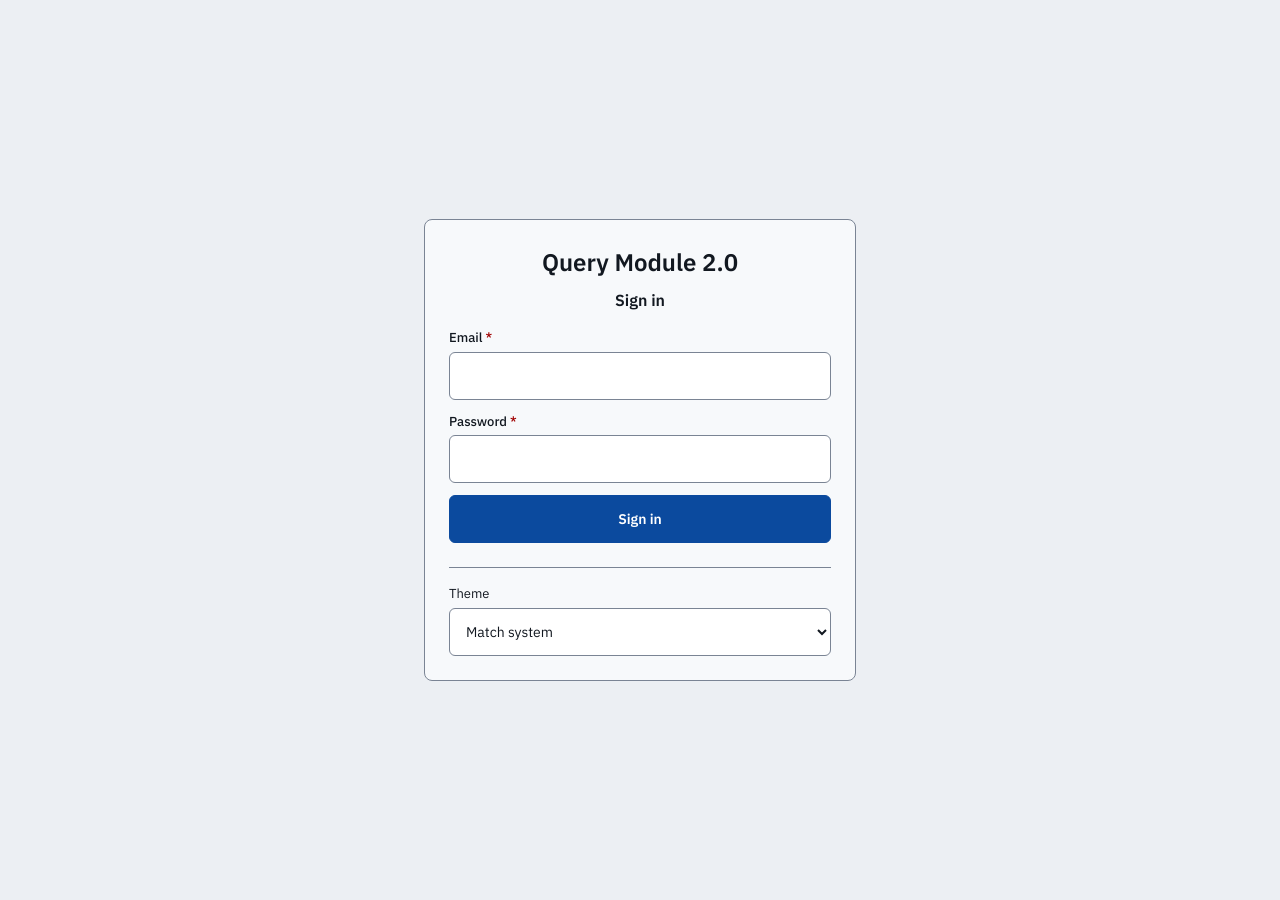
Test: NFR-003 authenticated heartbeat on the status page (spec 5.3, 6.8, 9.3) › reports a closed connection
This screenshot has width=1280, height=900.
Type "tester@querymodule.test" into the field labelled "Email *" at (640, 376), box [449, 352, 831, 400]
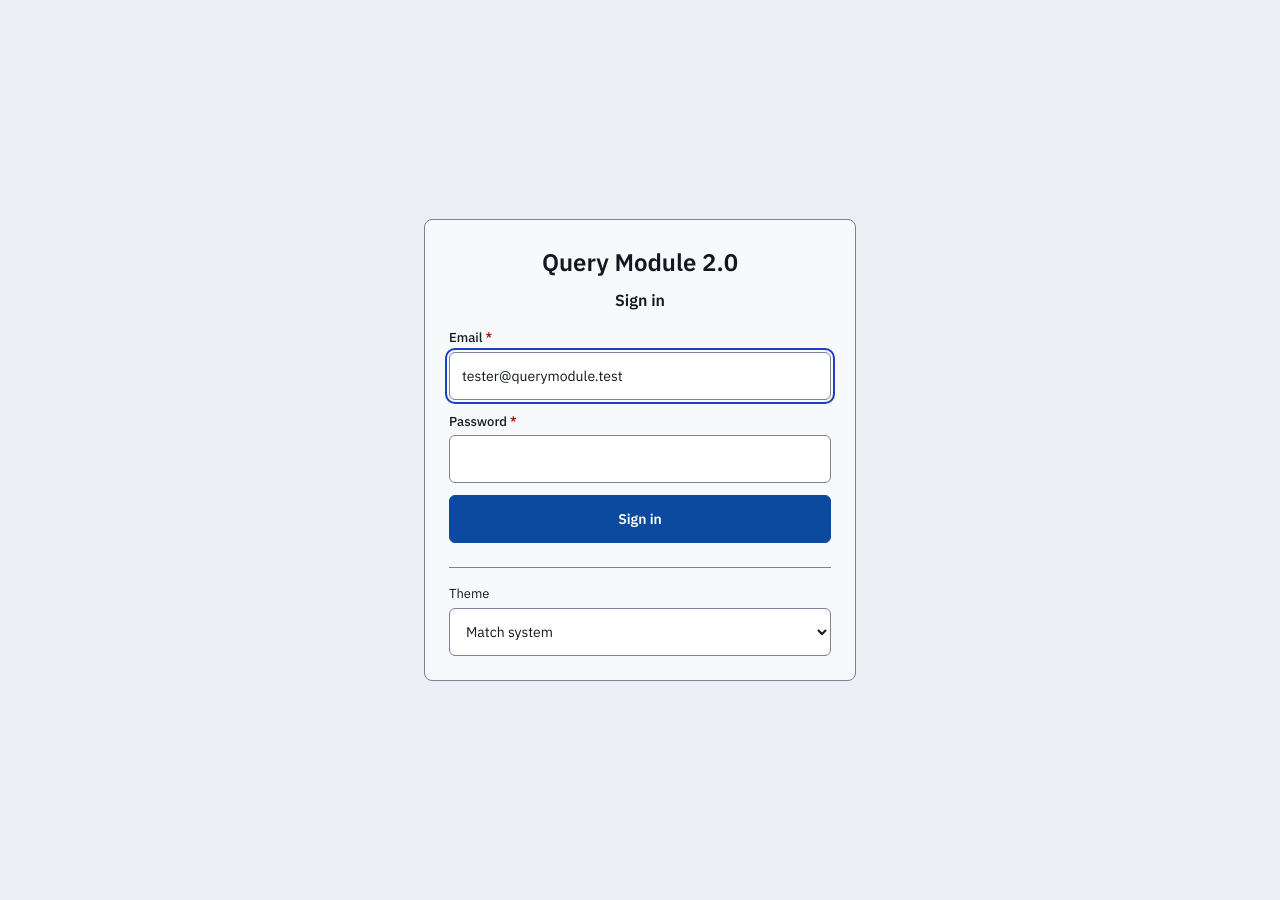
Type "fixture-only-pass" into the password field labelled "Password *" at (640, 459), box [449, 435, 831, 483]
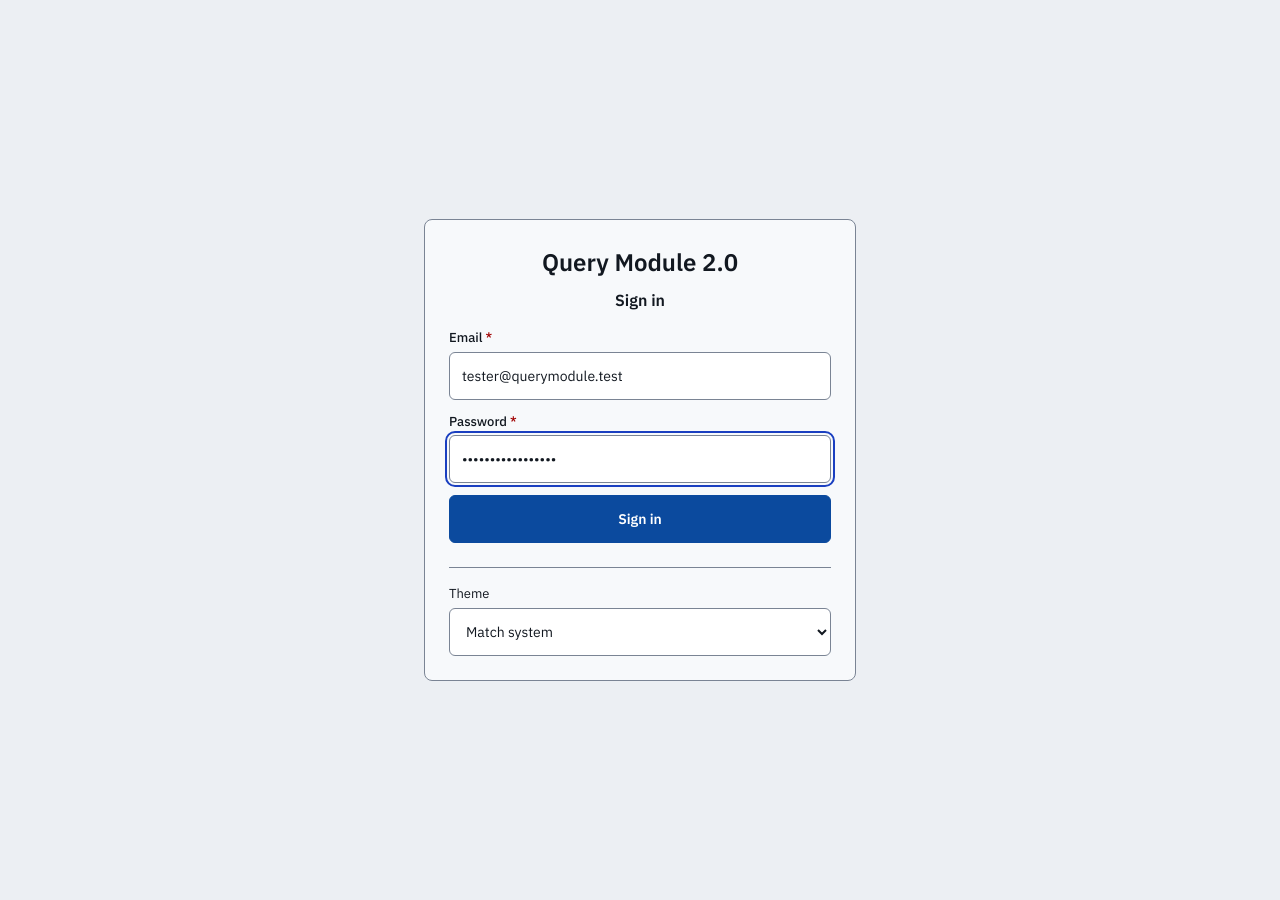
Click the button "Sign in" at (640, 519), box [449, 495, 831, 543]
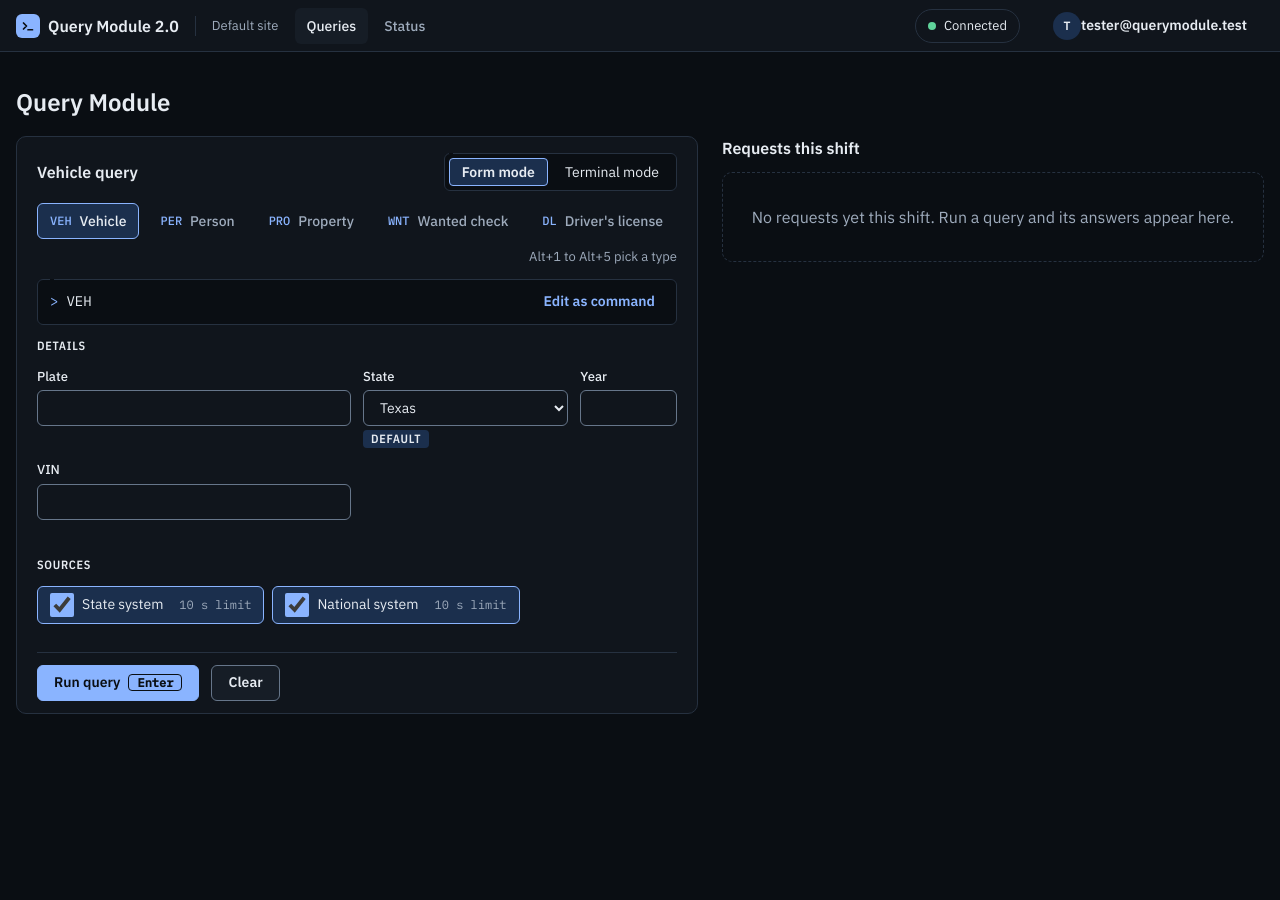
Click the link "Status" at (405, 26), box [384, 16, 426, 34]
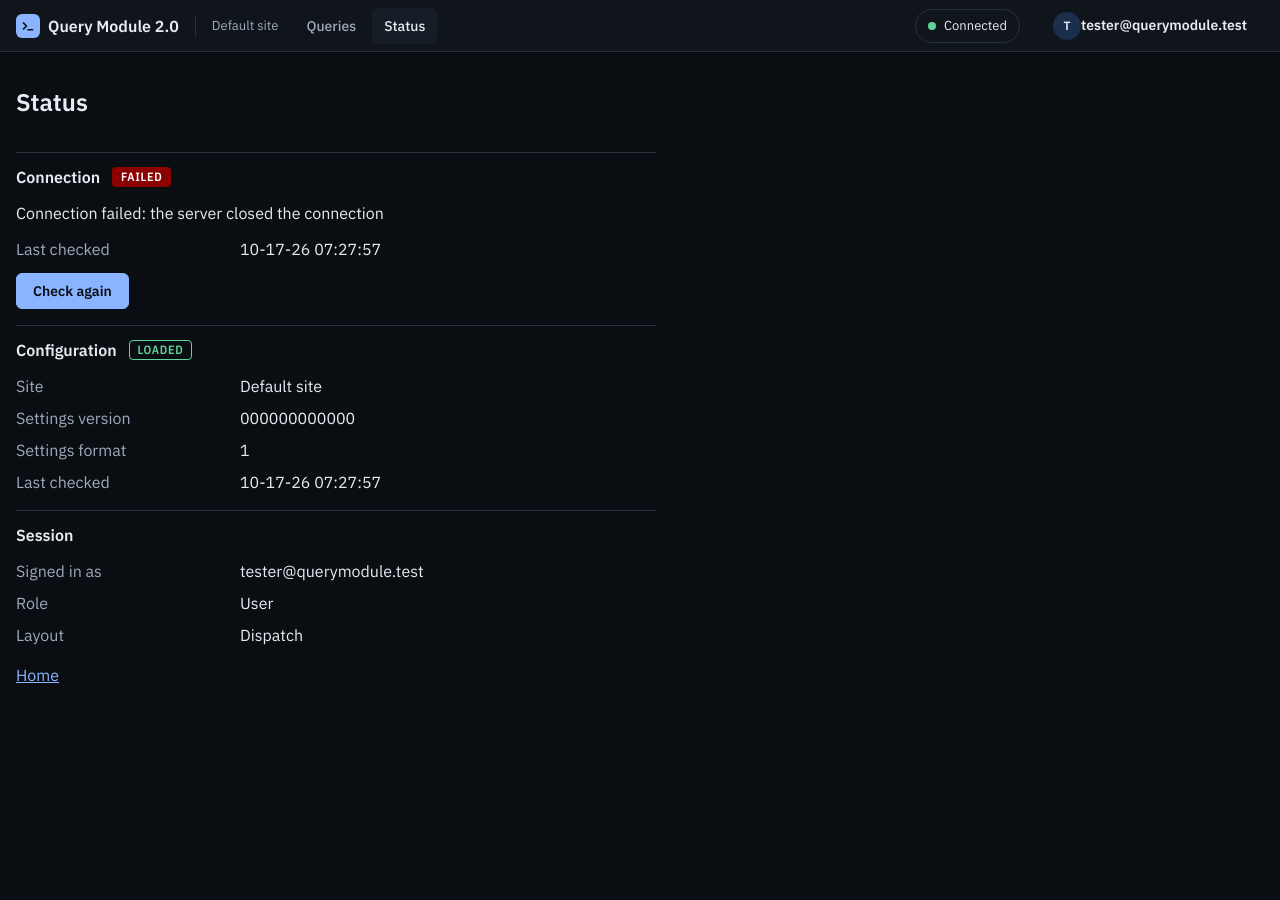
Result: the text "Connection failed: the server closed the connection" is shown at [16, 201, 384, 225]
